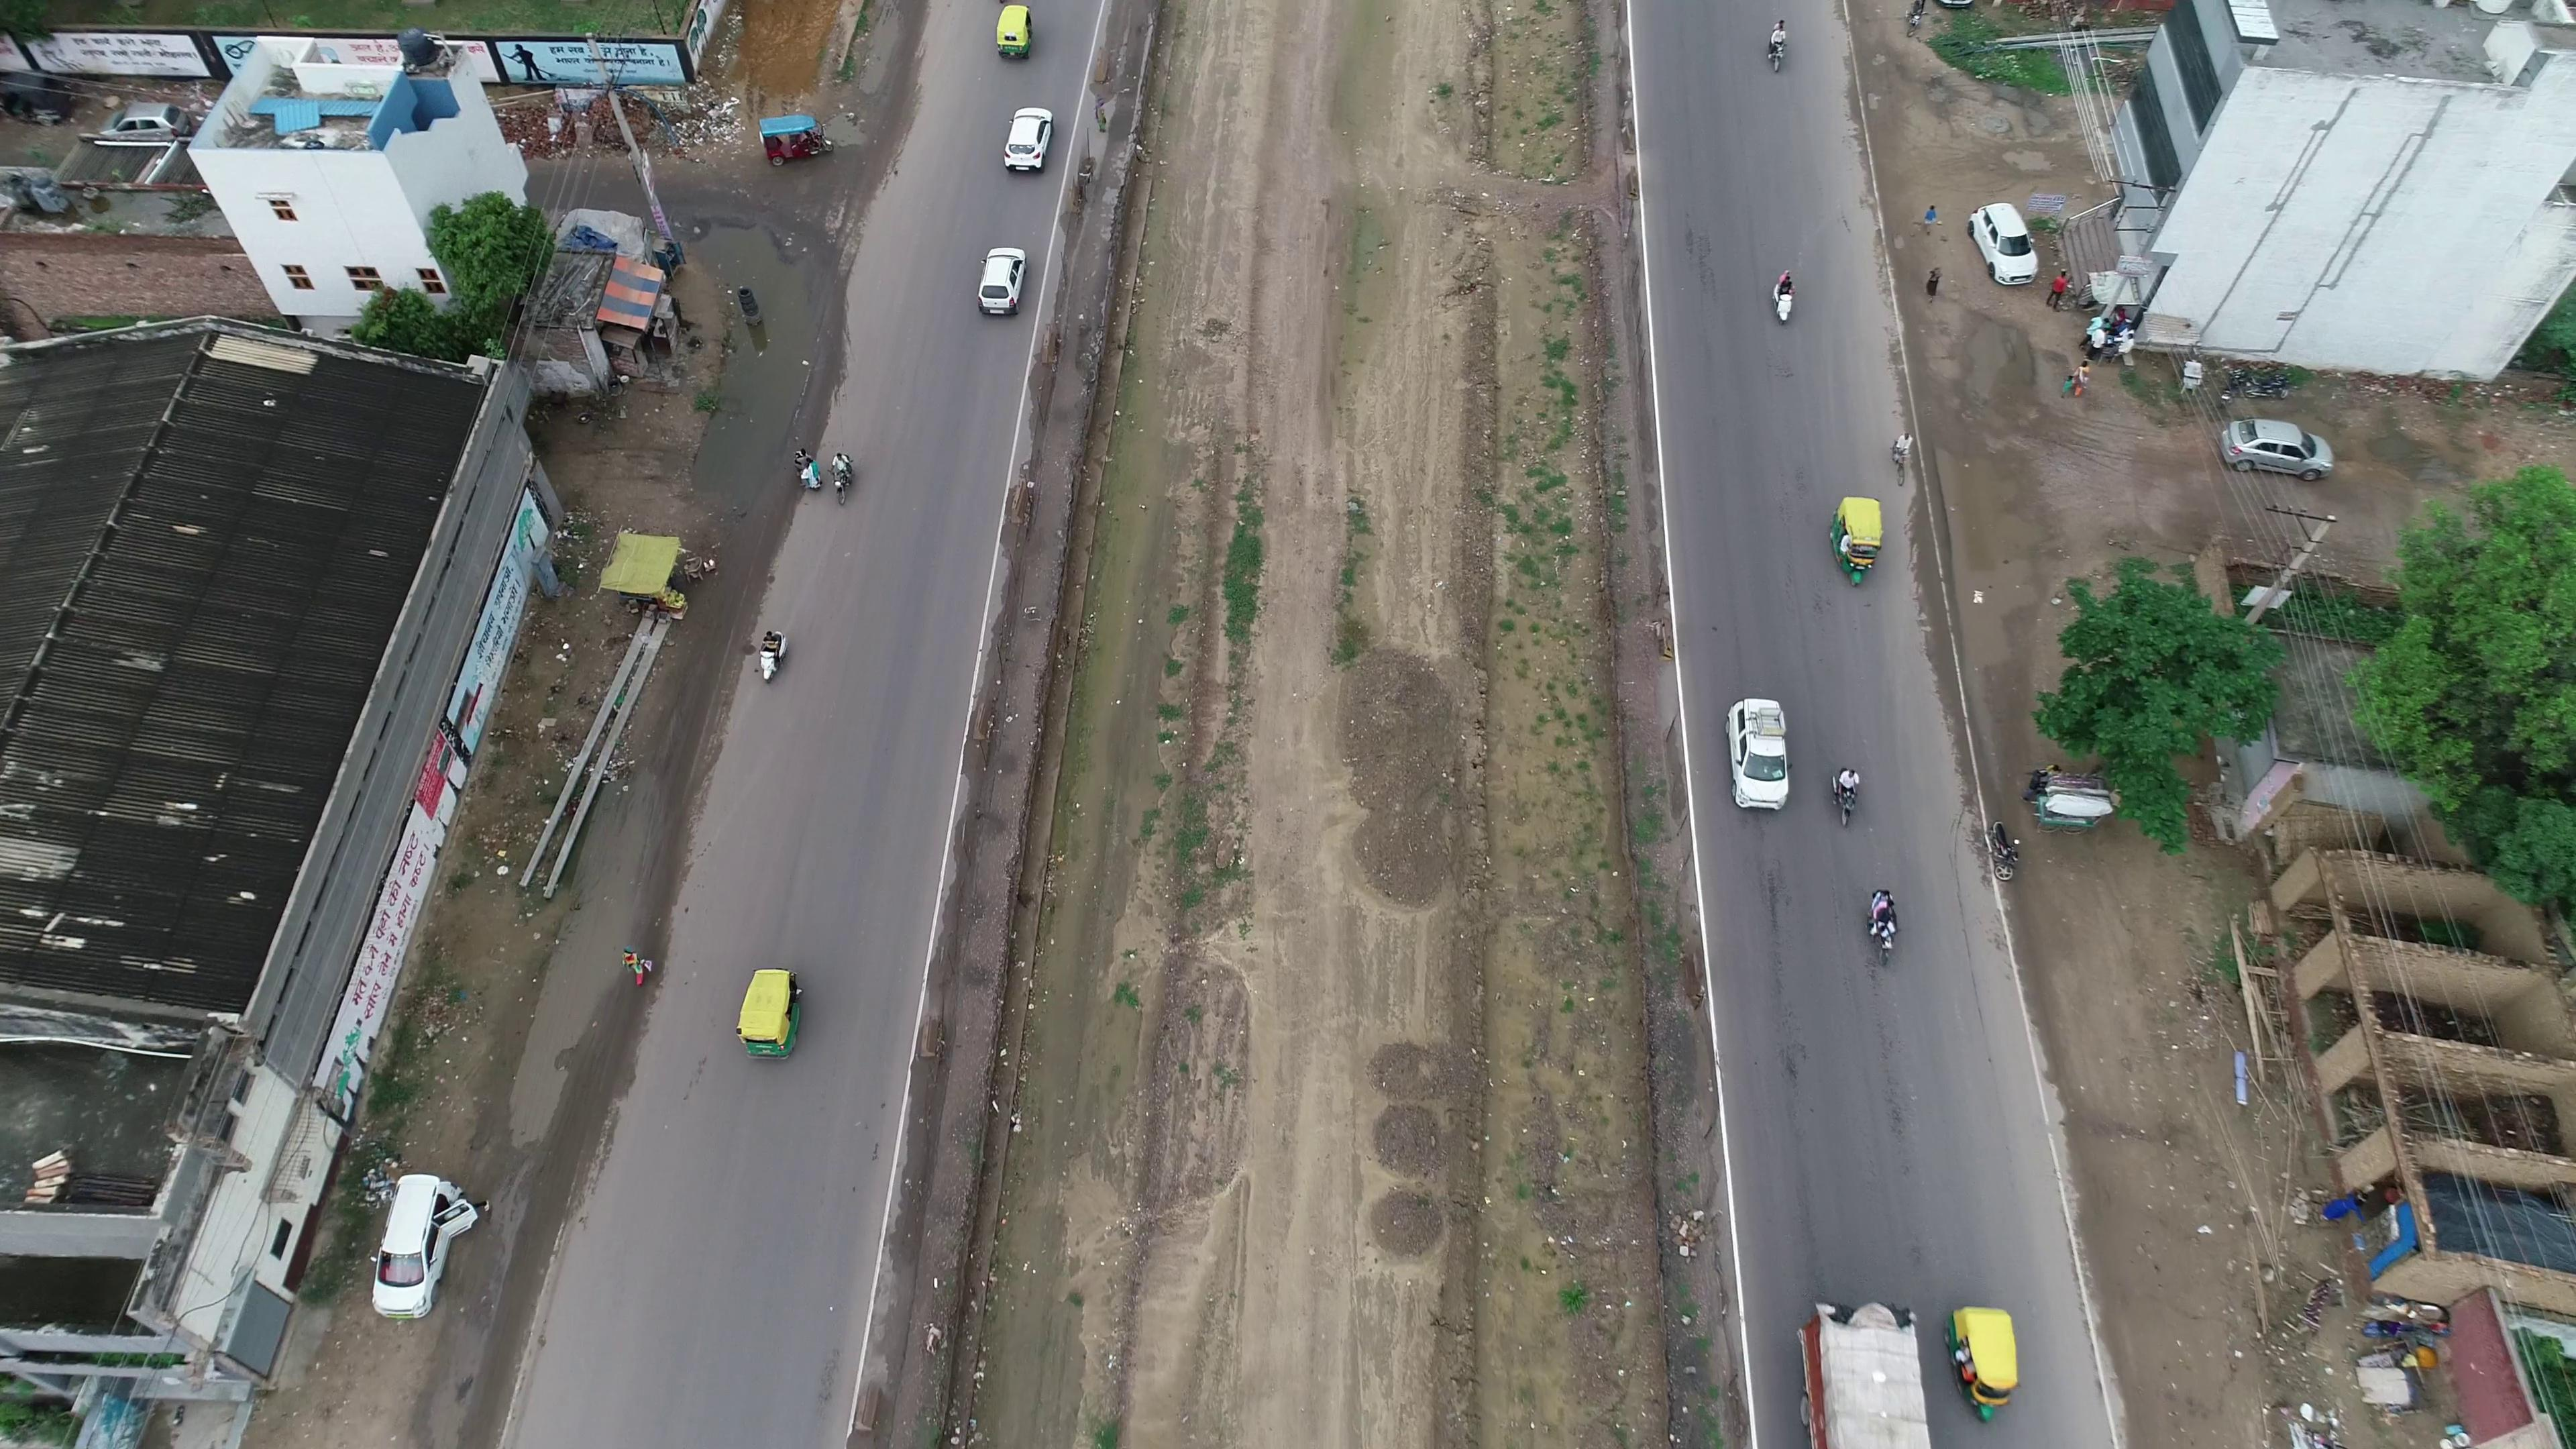Ravelling: (1752, 862, 1819, 1104)
Waterlogging: (688, 221, 817, 506), (490, 908, 621, 1141)
